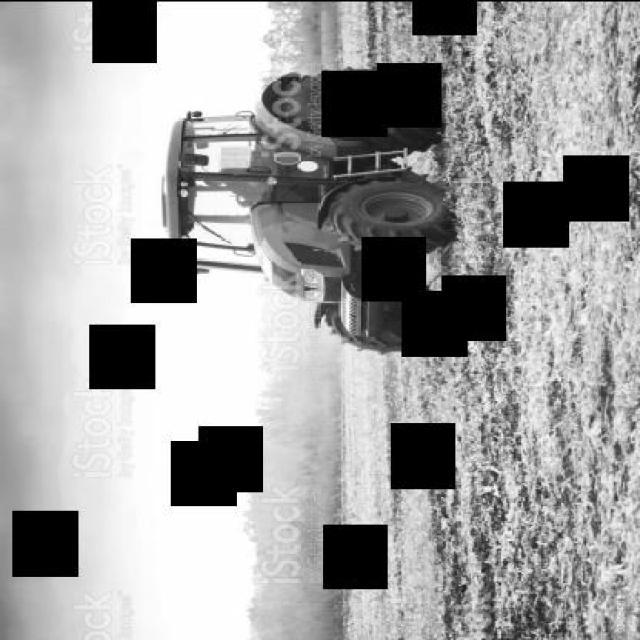Tratores - v5 YOLO V8L 2024-11-13: (105, 56, 598, 398)
